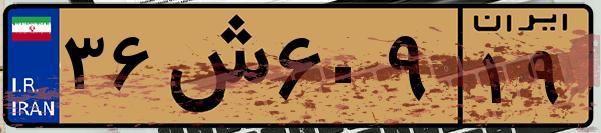0: (330, 28, 385, 110)
1: (475, 38, 525, 113)
3: (57, 26, 110, 100)
6: (270, 28, 330, 110), (110, 28, 158, 98)
9: (385, 28, 445, 110), (525, 38, 570, 115)
ش: (158, 12, 270, 120)
